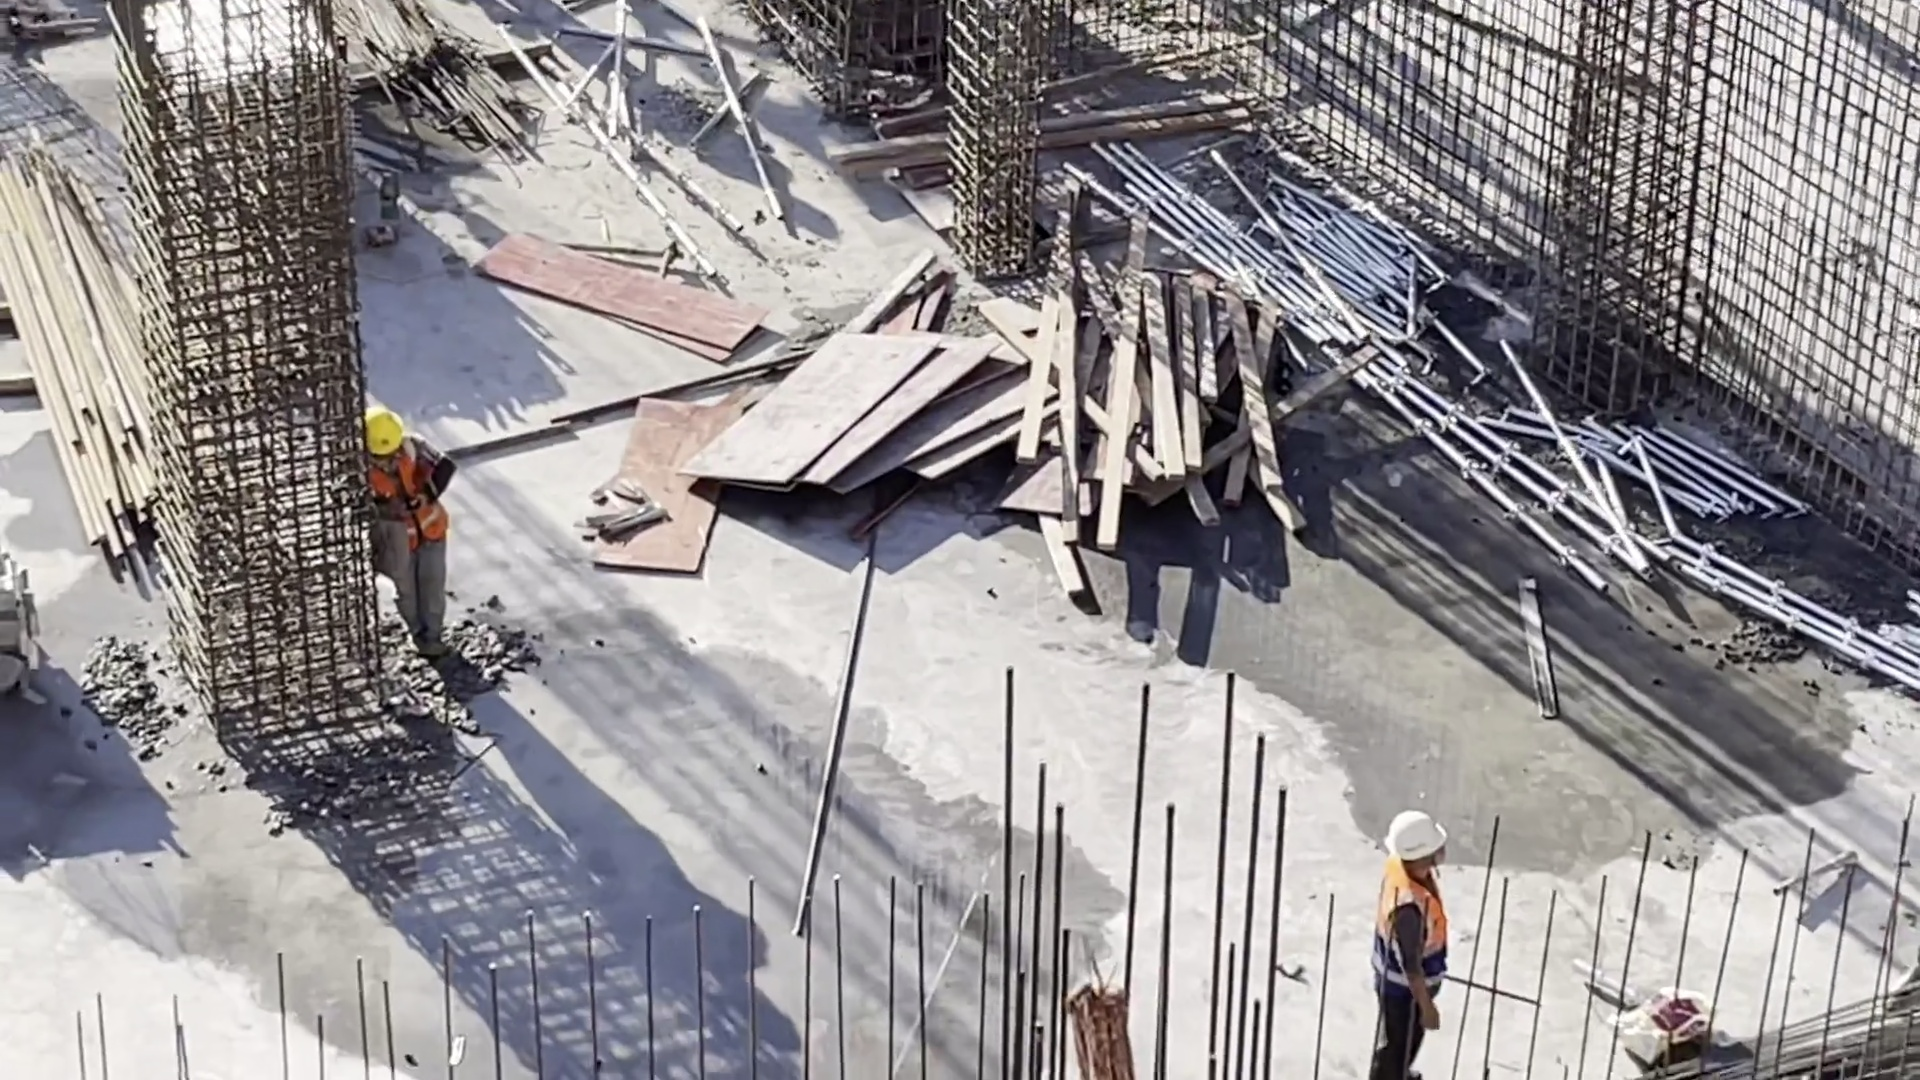board: (715, 328, 1014, 508)
helmet: (1369, 811, 1454, 872), (359, 401, 421, 449)
person: (345, 405, 475, 680), (1345, 797, 1470, 1075)
scaffold: (1266, 195, 1450, 347), (1563, 409, 1745, 545)
vest: (355, 443, 456, 544), (1382, 865, 1451, 979)
wood: (1037, 205, 1294, 555)
